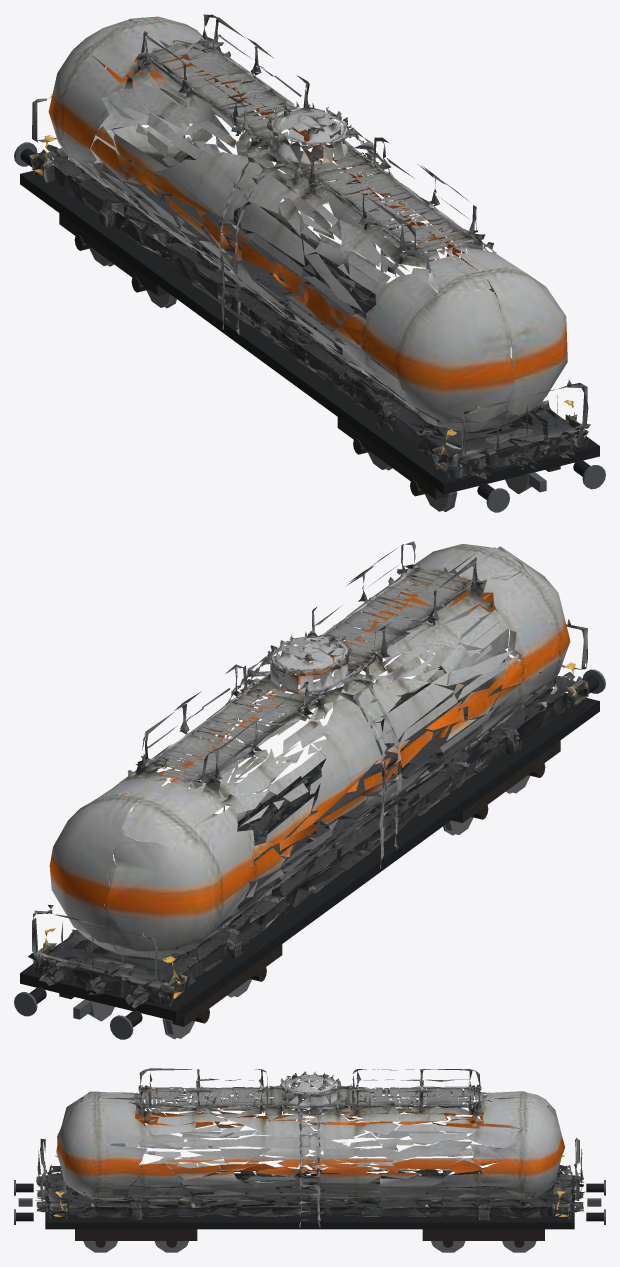
File: zas_m.glb
3 views of the same model, one above another, from view 1: azimuth 30°, elevation 25°; view 2: azimuth 150°, elevation 25°; view 3: azimuth 270°, elevation 25° (orthographic). The views are drawn at different scales.
Visible parts, largest first — view 1: zas_kori, zas_frame, Bogie_F_side-1, Bogie_R_side-1; view 2: zas_kori, zas_frame, Bogie_R_side-1, Bogie_F_side-1; view 3: zas_kori, zas_frame, Bogie_F_side1, Bogie_R_side1, Wheel_F1_wR, Wheel_R2_wR.
Part boxes in pixels (left/top/right/bottom): zas_kori: left=29, top=14, right=590, bottom=479; zas_frame: left=20, top=160, right=599, bottom=494; Bogie_F_side-1: left=337, top=417, right=447, bottom=499; Bogie_R_side-1: left=59, top=213, right=168, bottom=295; zas_kori: left=28, top=541, right=588, bottom=1008; zas_frame: left=20, top=688, right=599, bottom=1021; Bogie_R_side-1: left=172, top=944, right=282, bottom=1026; Bogie_F_side-1: left=451, top=740, right=560, bottom=822; zas_kori: left=35, top=1068, right=585, bottom=1227; zas_frame: left=45, top=1175, right=574, bottom=1229; Bogie_F_side1: left=75, top=1229, right=197, bottom=1240; Bogie_R_side1: left=422, top=1229, right=544, bottom=1240; Wheel_F1_wR: left=84, top=1241, right=117, bottom=1252; Wheel_R2_wR: left=502, top=1241, right=535, bottom=1252.
Bounding box in the file's own units: 3.11 × 4.56 × 14.99.
5 materials, 1 textured.
